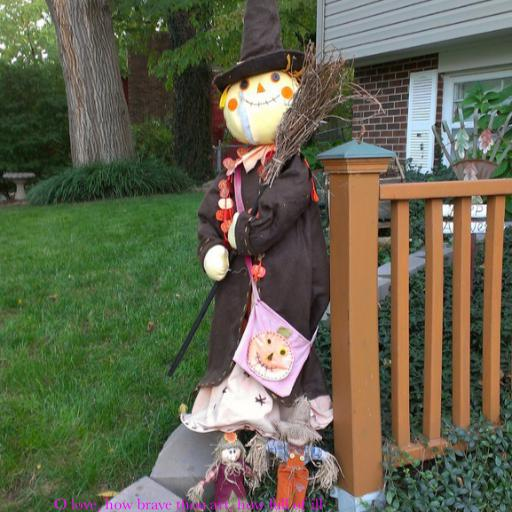Baskerville: (53, 498, 323, 512)
